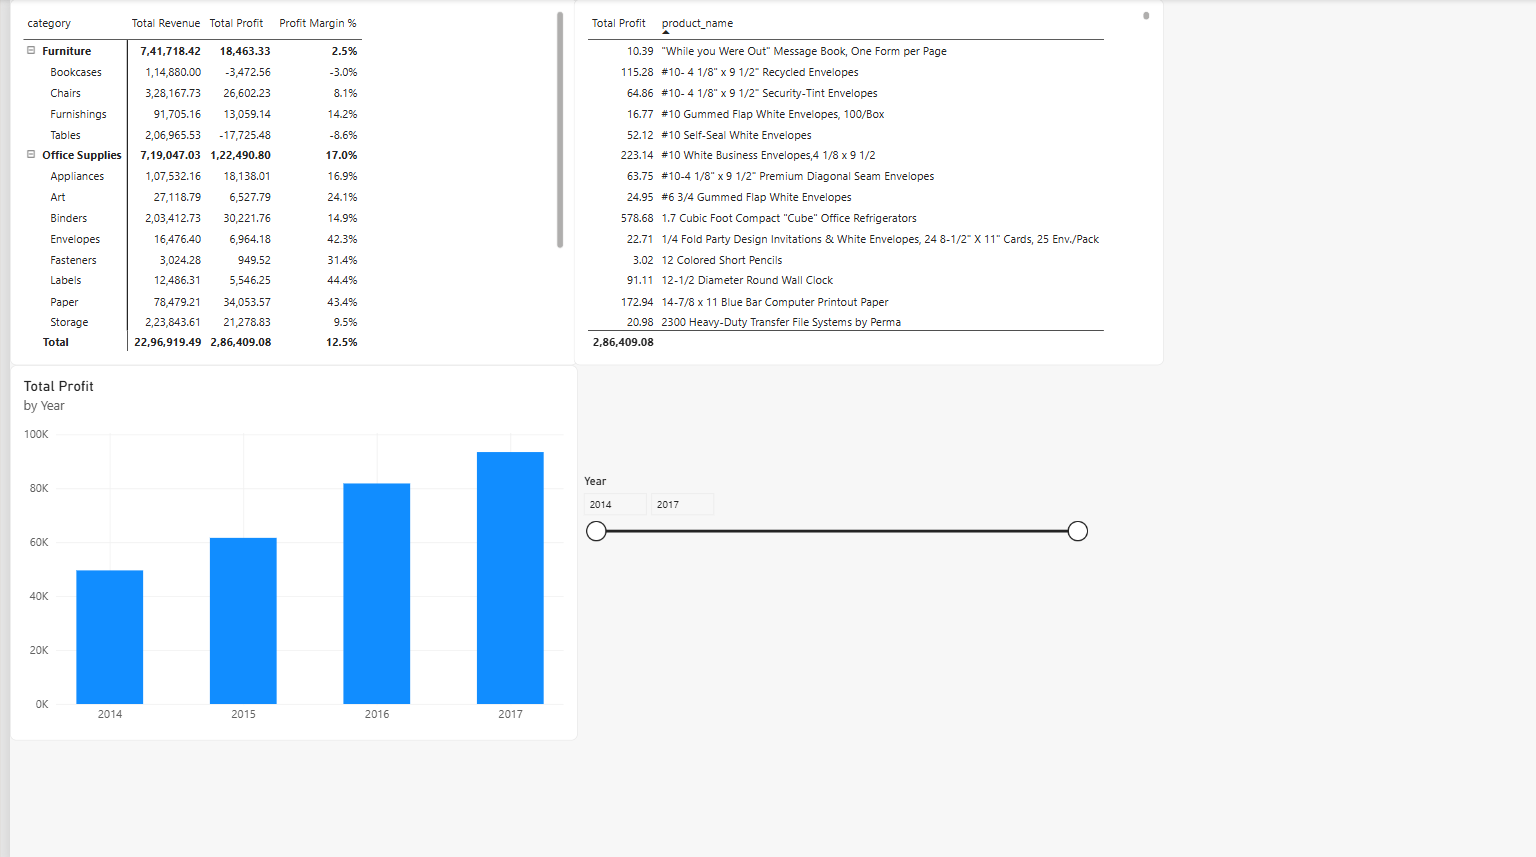

The page's visual inventory and layout, read from the dashboard file:
{"tool":"powerbi","page":{"name":"Profitability","canvas":[1920,1080],"ordinal":1},"visuals":[{"type":"pivotTable","fields":{"Rows":["products.category","products.sub_category"],"Values":["order_items.Total Revenue","order_items.Total Profit","order_items.Profit Margin %"]},"box":[0,0,640,302.5],"z":0},{"type":"clusteredColumnChart","fields":{"Category":["Dim_Date.Year"],"Y":["order_items.Total Profit"]},"box":[0,457.5,640,303],"z":1000},{"type":"tableEx","fields":{"Values":["order_items.Total Profit","products.product_name"]},"box":[770,25,732.5,410],"z":2000},{"type":"slicer","fields":{"Values":["Dim_Date.Year"]},"box":[816.3,495.4,640,150],"z":3000}]}

Visuals, with their boxes in screenshot pixels (x1, y1, x2, y2), scaled from the page's 1920x1080 canvas onto the 1536x857 screenshot:
pivotTable - products.category x products.sub_category: pyautogui.locateOnScreen(0, 0, 512, 240)
clusteredColumnChart - Dim_Date.Year x order_items.Total Profit: pyautogui.locateOnScreen(0, 363, 512, 603)
tableEx - order_items.Total Profit x products.product_name: pyautogui.locateOnScreen(616, 20, 1202, 345)
slicer - Dim_Date.Year: pyautogui.locateOnScreen(653, 393, 1165, 512)
